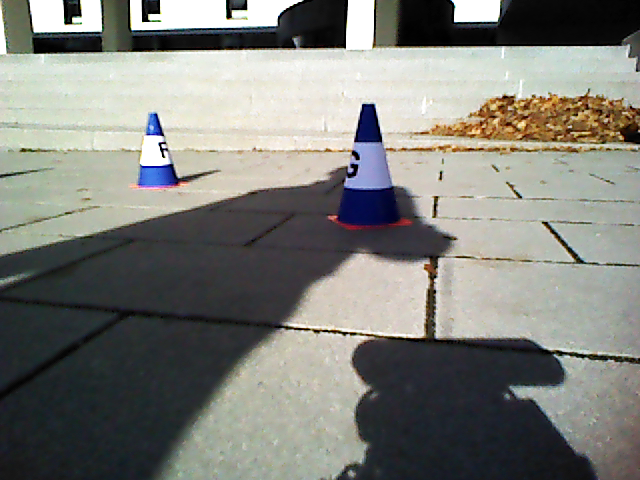bluecone: (341, 104, 400, 225), (137, 113, 176, 186)
